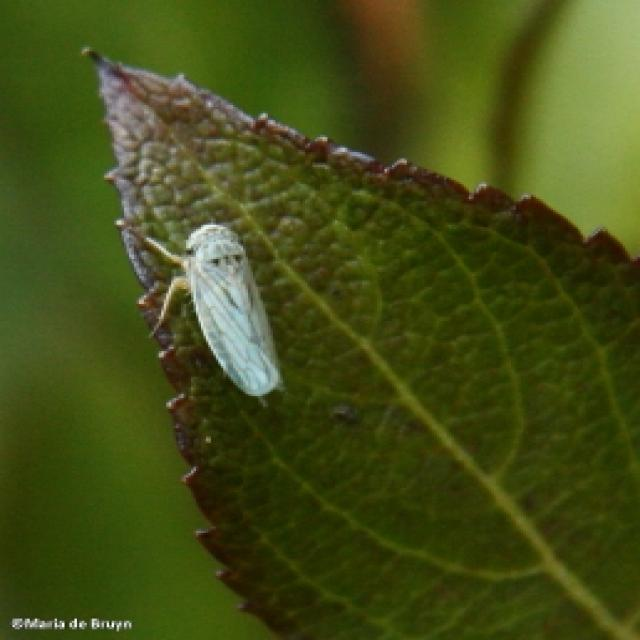Yechan: (166, 196, 319, 422)
